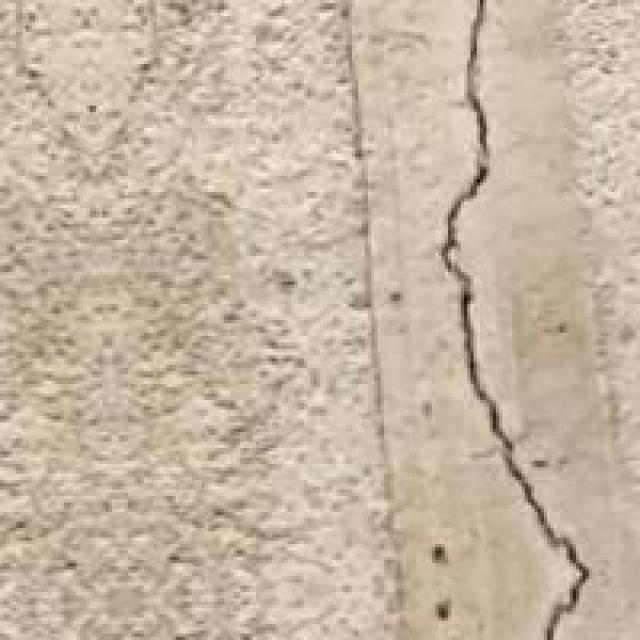Crack: (381, 0, 624, 637)
